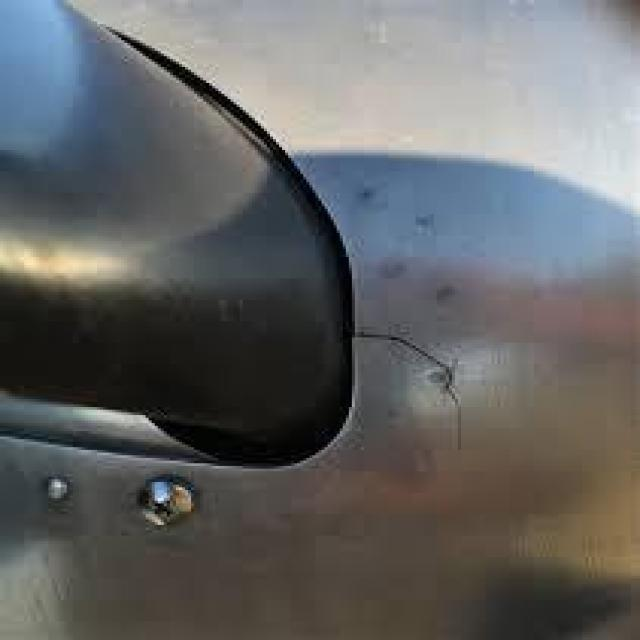defect: (349, 327, 467, 457)
